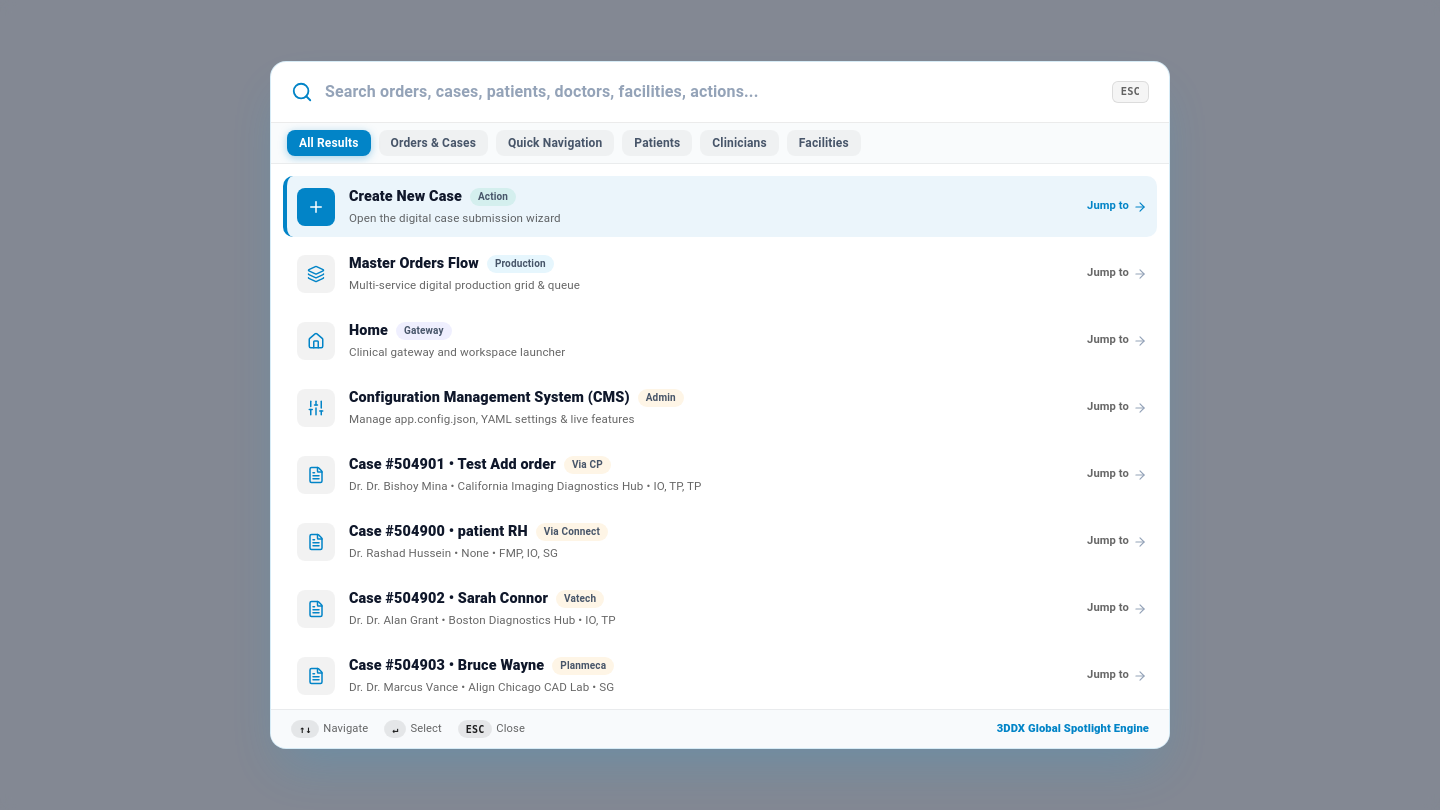
Test case: Global Search Improvement (UIUX-REQ-009) › Debouncing & Input Responsiveness › debounces input changes before updating search results
Replace the text in the field named "search clinical repository" with "Facility" at (712,92), box [325,76,1100,108]
Wait 160 ms
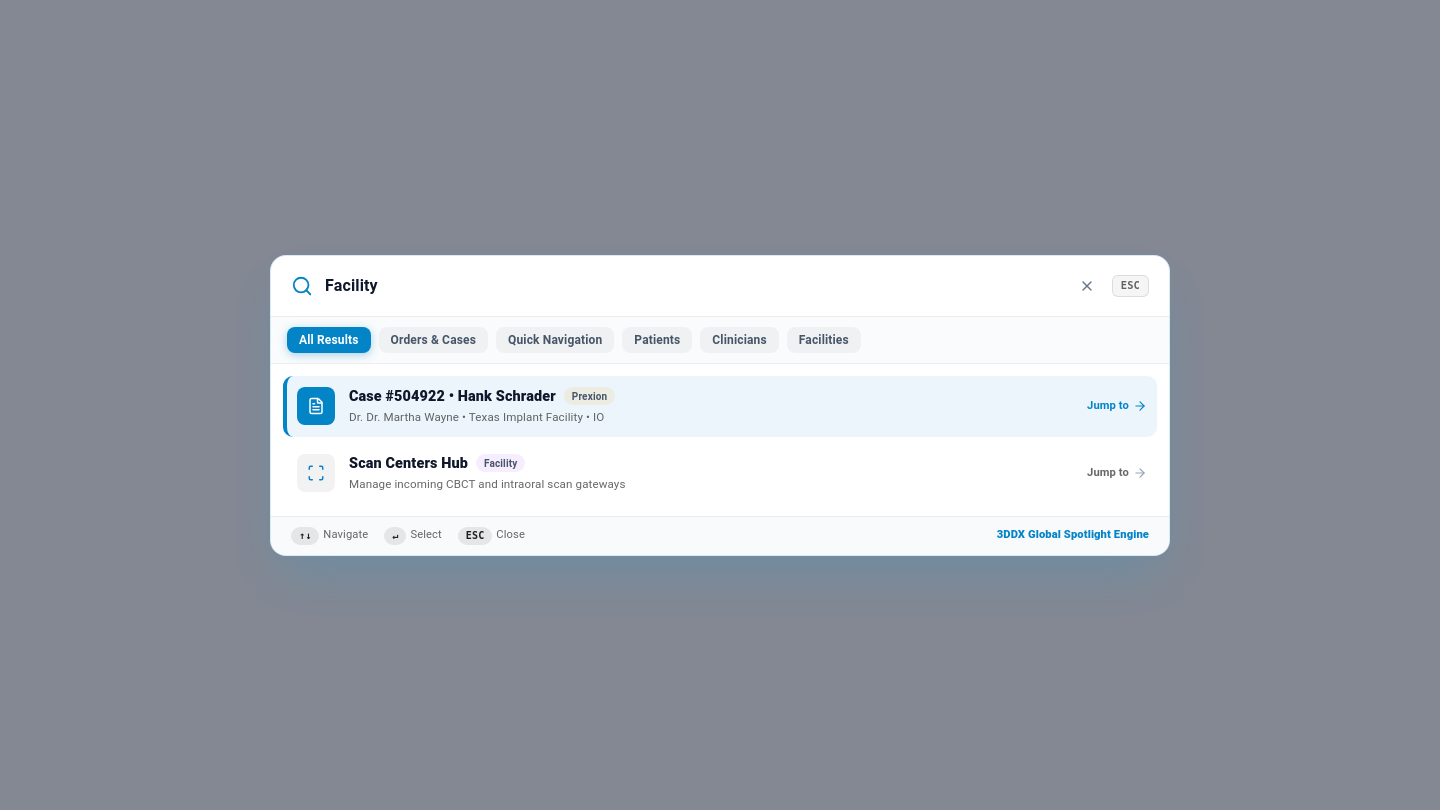
Expected: the text "Scan Centers Hub" is shown, [349,452,468,474]
